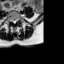CCS_normal: (13, 17, 15, 25)
LFS_normal: (17, 15, 18, 22)
LLS_normal: (15, 17, 17, 24)
RFS_normal: (10, 17, 11, 23)
RLS_normal: (11, 17, 13, 24)
